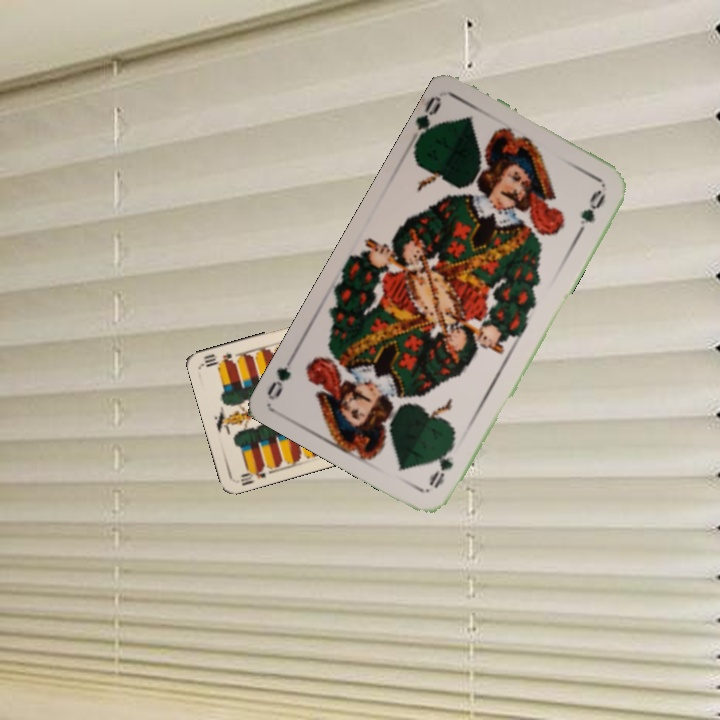E10: (236, 460, 273, 488)
GO: (406, 92, 446, 147), (425, 435, 457, 491)
